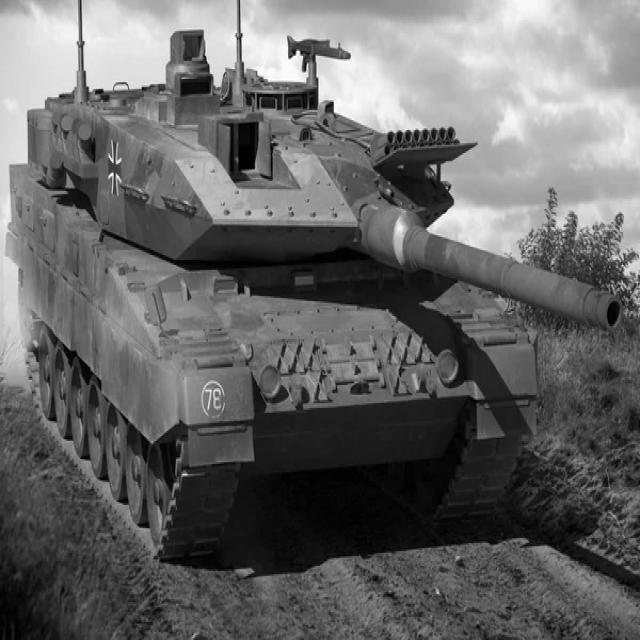Tank: (9, 24, 626, 554)
